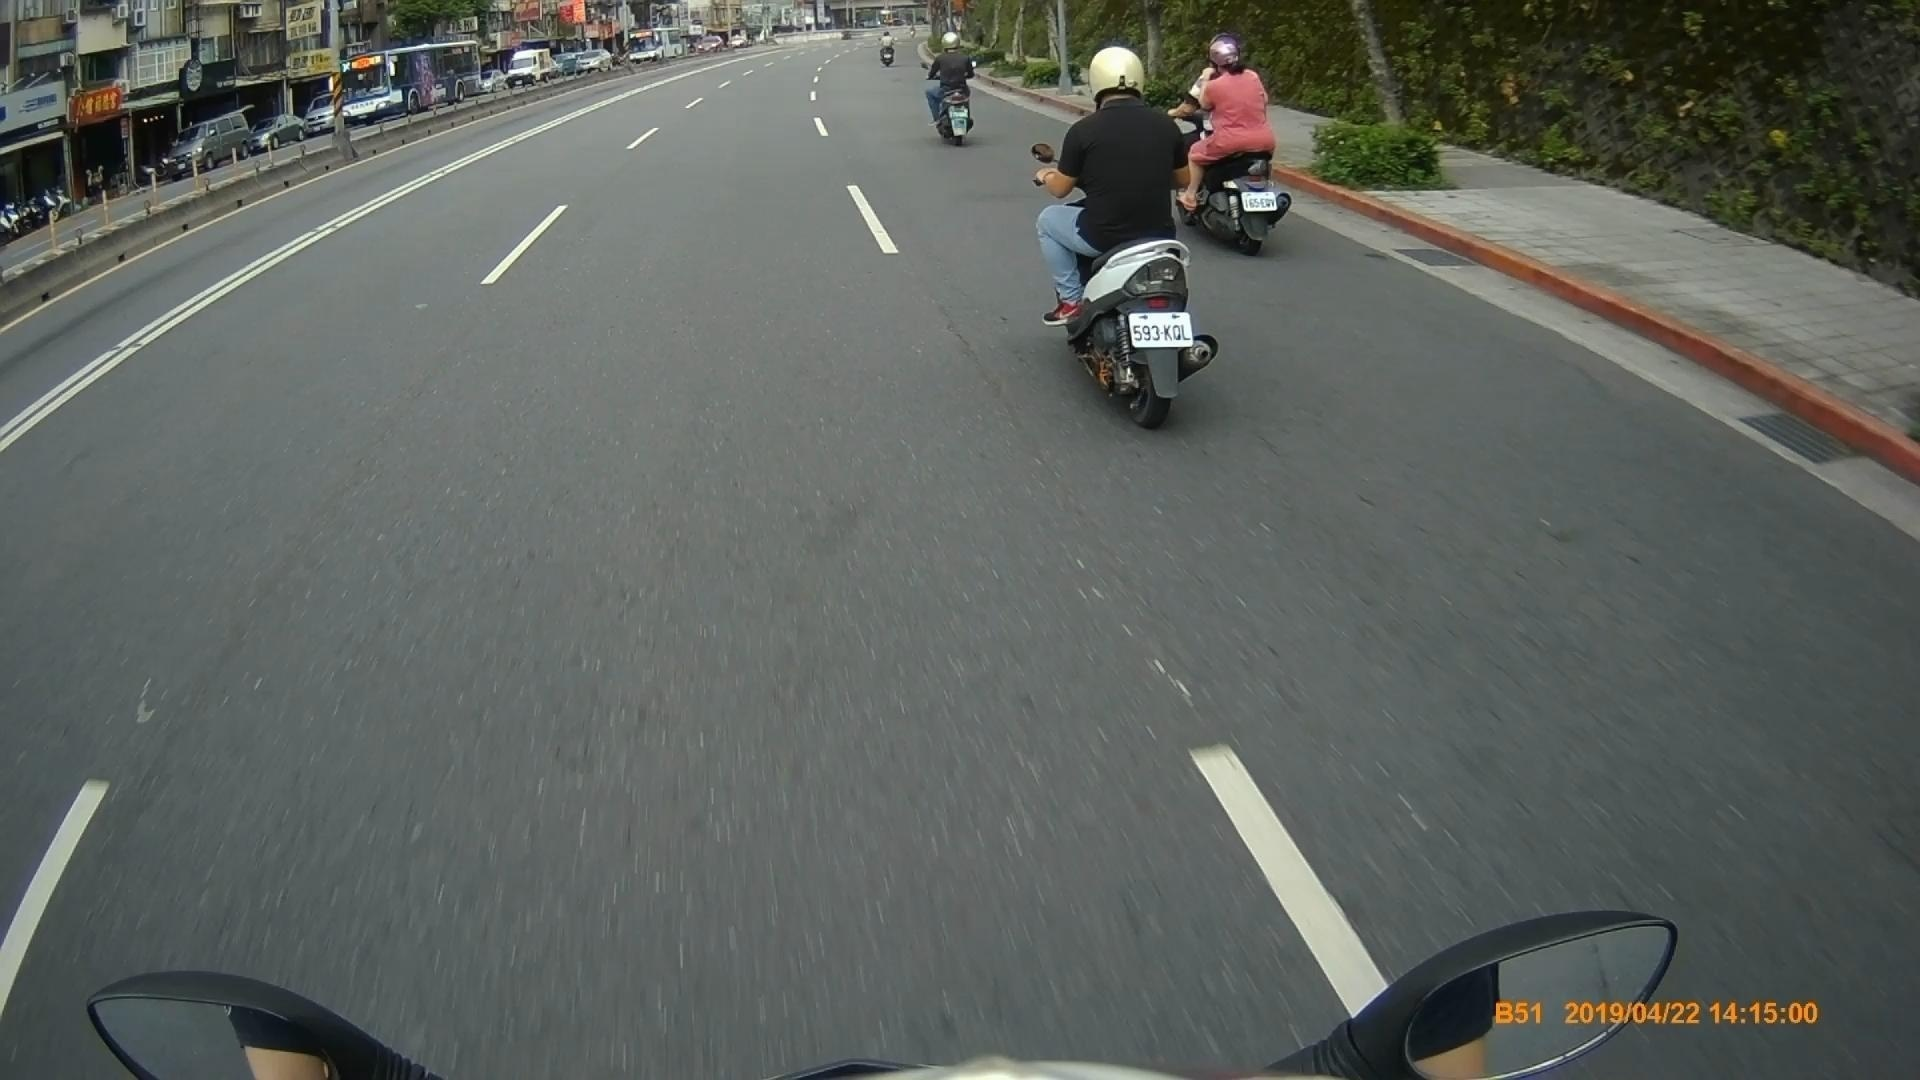License_plate: (1128, 309, 1194, 346), (1238, 189, 1283, 215)
